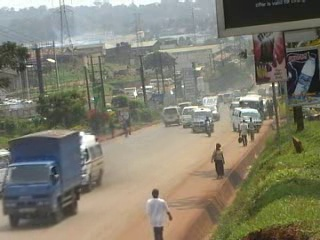Motorcycle: (204, 120, 213, 137)
